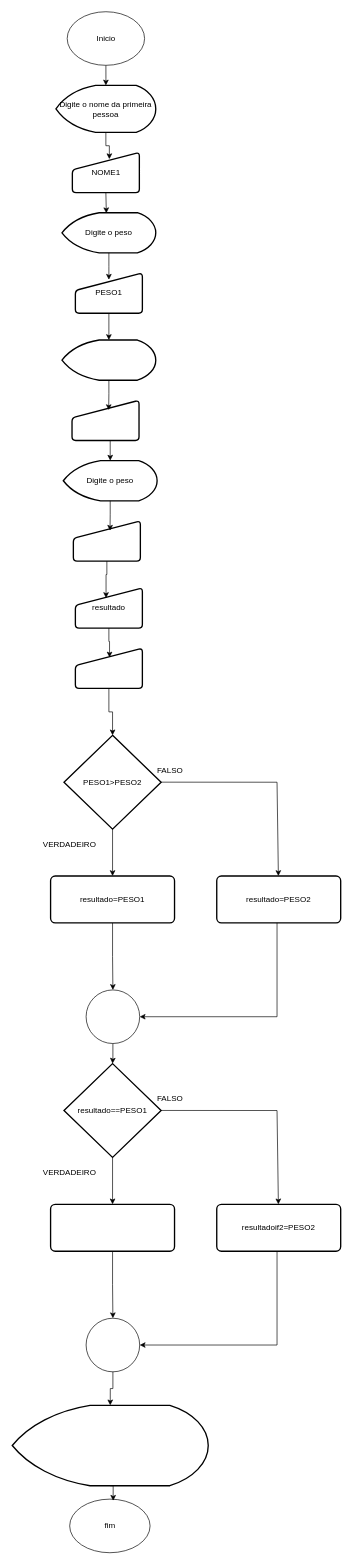
This 353x1564 diagram has some shape labels left out. The box of each missing label's shape, as (x1, y1, x2, y2) in pixels:
"A pessoa mais pesada é "+resultadoif2+ " com " + resultado + " KG de peso.": (11, 1404, 209, 1486)
Digite o nome da segunda pessoa: (61, 339, 156, 381)
NOME2: (71, 399, 139, 441)
PESO2: (72, 520, 141, 561)
resultadoif2: (74, 647, 143, 689)
resultadoif2=PESO1: (50, 1203, 175, 1252)
